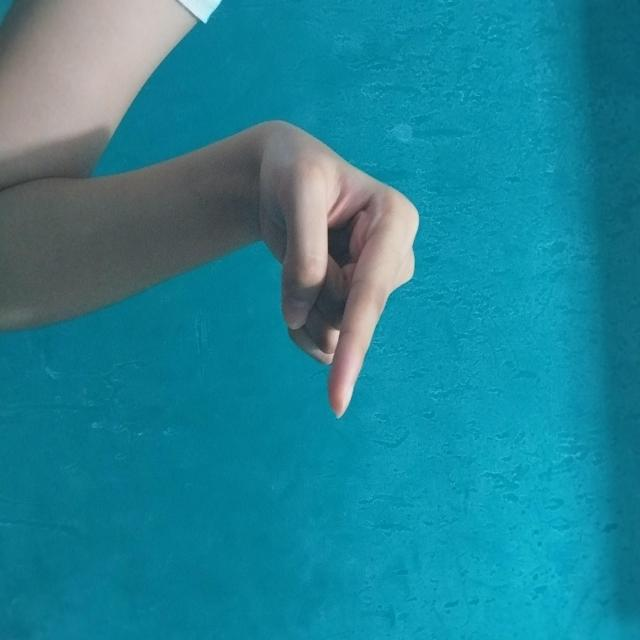Z: (242, 117, 438, 433)
